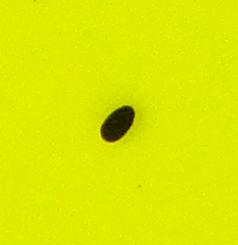Coleoptera: (100, 100, 138, 145)
